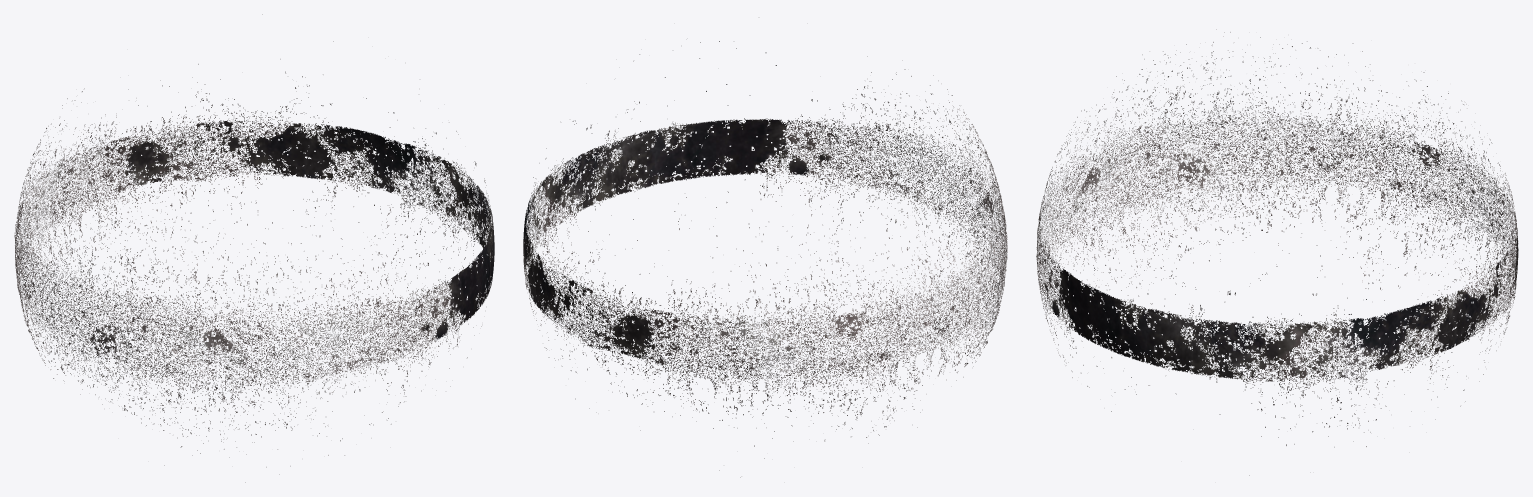
Rendered from moon.glb.
The picture shows the model from 3 angles, left to right: view 1: azimuth 30°, elevation 25°; view 2: azimuth 150°, elevation 25°; view 3: azimuth 270°, elevation 25°; orthographic projection.
Parts seen in each view (by area): view 1: Sphere; view 2: Sphere; view 3: Sphere.
Part boxes in pixels (x1,y1,x2,y2): Sphere: [14, 14, 494, 482]; Sphere: [523, 41, 1007, 477]; Sphere: [1036, 29, 1518, 475].
Bounding box in the file's own units: 1.93 × 1.81 × 1.93.
Materials: 1 (1 with a texture image).
